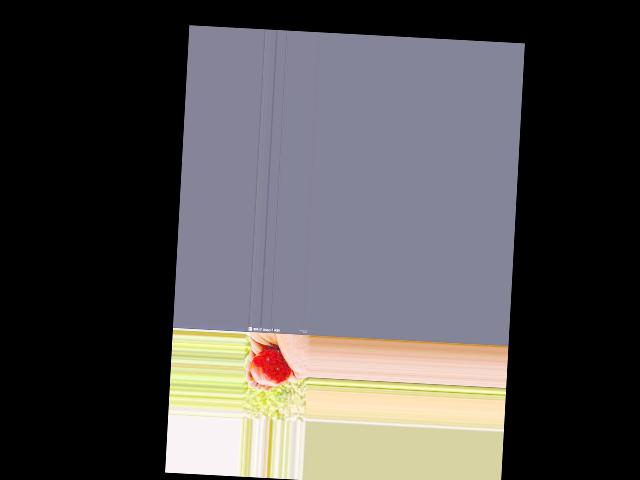tomato: (250, 348, 292, 386)
